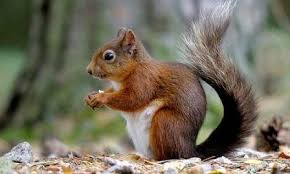Ardilla: (78, 22, 206, 161)
